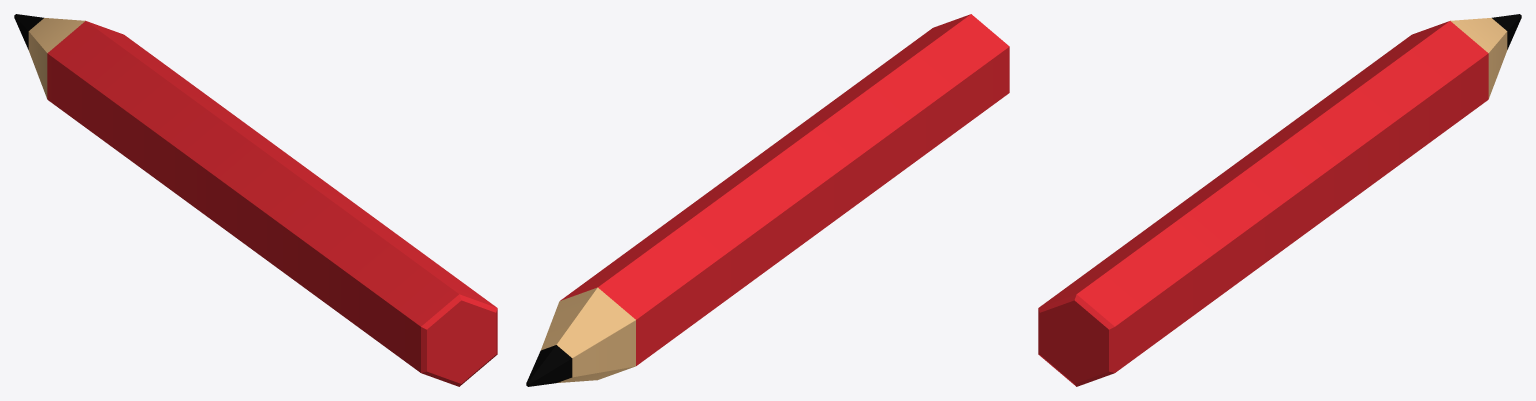
Rendered from pencil.fbx.
3 renders of one model, left to right at view 1: azimuth 30°, elevation 25°; view 2: azimuth 150°, elevation 25°; view 3: azimuth 330°, elevation 25°, orthographic.
Parts seen in each view (by area): view 1: pencil; view 2: pencil; view 3: pencil.
Part boxes in pixels (left/top/right/bottom): pencil: left=14, top=14, right=497, bottom=386; pencil: left=526, top=14, right=1009, bottom=386; pencil: left=1038, top=14, right=1521, bottom=386.
Bounding box in the file's own units: 0.1985 × 0.2292 × 2.
